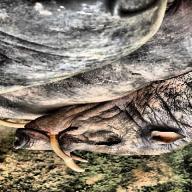boar: (10, 73, 192, 178)
